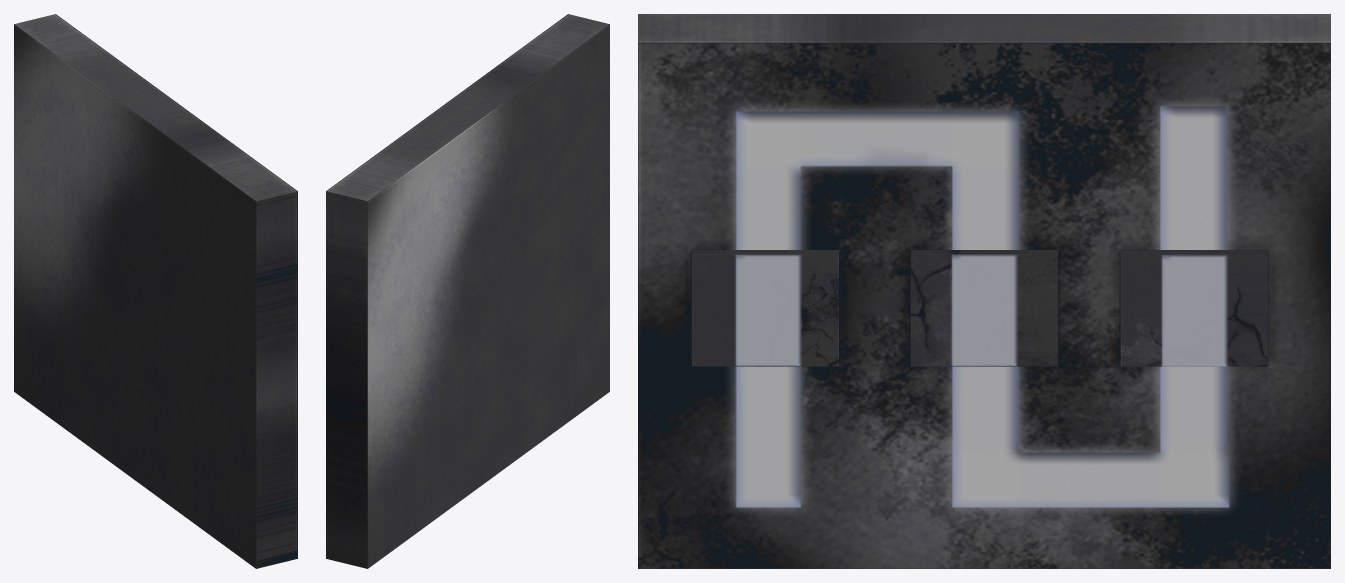
Rendered from BoxPuzzle_final.fbx.
3 views of the same model, side by side, from view 1: azimuth 30°, elevation 25°; view 2: azimuth 150°, elevation 25°; view 3: azimuth 270°, elevation 25° (orthographic). The views are drawn at different scales.
Visible parts, largest first — view 1: Plane; view 2: Plane; view 3: Plane, Plane.001, Plane.002, Plane.003.
Part boxes in pixels (box(x1,y1,x2,y2)): Plane: box(14, 14, 297, 568); Plane: box(326, 14, 609, 568); Plane: box(638, 14, 1330, 568); Plane.001: box(910, 250, 1058, 366); Plane.002: box(691, 250, 839, 366); Plane.003: box(1120, 250, 1267, 366).
Bounding box in the file's own units: 97.56 × 711 × 849.
Materials: 1 (1 with a texture image).
